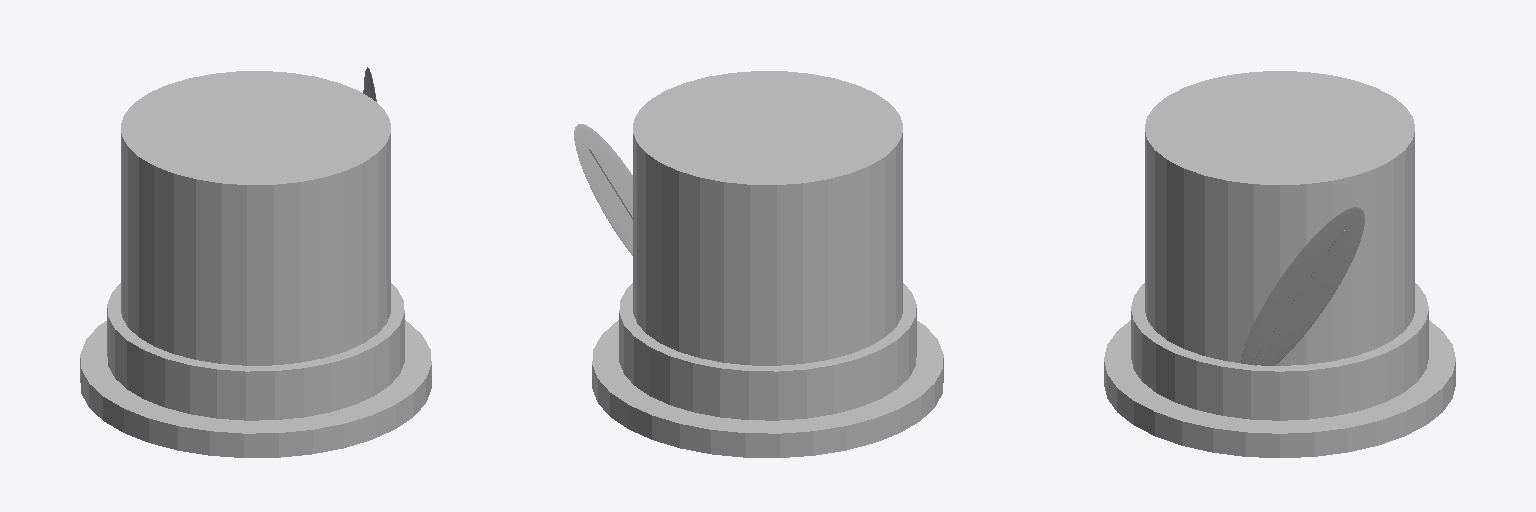
The model's file is Top Hat.obj.
3 renders of one model, left to right at view 1: azimuth 30°, elevation 25°; view 2: azimuth 150°, elevation 25°; view 3: azimuth 270°, elevation 25°, orthographic.
Parts seen in each view (by area): view 1: Top_Hat; view 2: Top_Hat; view 3: Top_Hat.
Part boxes in pixels (bbox=[...]): Top_Hat: bbox=[80, 67, 431, 457]; Top_Hat: bbox=[574, 71, 943, 457]; Top_Hat: bbox=[1104, 71, 1455, 457].
Bounding box in the file's own units: 2.6 × 2.08 × 2.6.